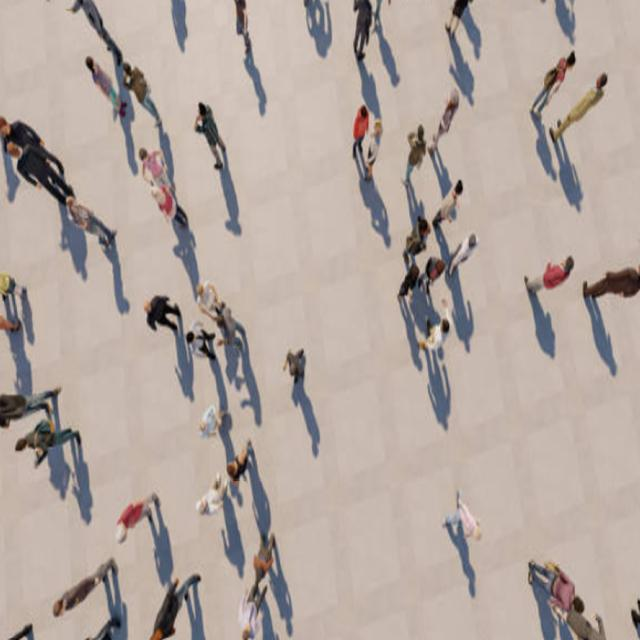humans: (527, 548, 588, 628), (4, 138, 76, 204), (548, 72, 610, 148), (49, 558, 123, 620), (0, 114, 68, 178), (60, 0, 128, 64), (520, 244, 576, 318), (145, 570, 202, 640), (581, 257, 640, 323), (526, 46, 578, 115), (120, 59, 167, 131), (84, 53, 128, 129), (64, 193, 119, 251), (440, 484, 485, 554), (192, 96, 230, 177), (0, 383, 64, 430), (11, 426, 82, 468), (114, 488, 163, 546), (427, 84, 462, 160), (148, 183, 193, 233), (140, 292, 185, 338), (137, 142, 179, 189), (403, 117, 427, 197), (238, 582, 270, 640), (432, 178, 466, 231), (449, 232, 481, 286), (195, 467, 229, 517), (352, 0, 376, 69), (224, 435, 256, 486), (403, 214, 434, 264), (213, 305, 248, 349), (424, 313, 452, 367), (364, 116, 385, 187), (183, 323, 219, 364), (249, 532, 277, 584), (281, 342, 311, 388), (399, 258, 421, 317), (419, 252, 446, 300), (196, 403, 228, 441), (351, 98, 369, 164), (195, 280, 219, 319)
